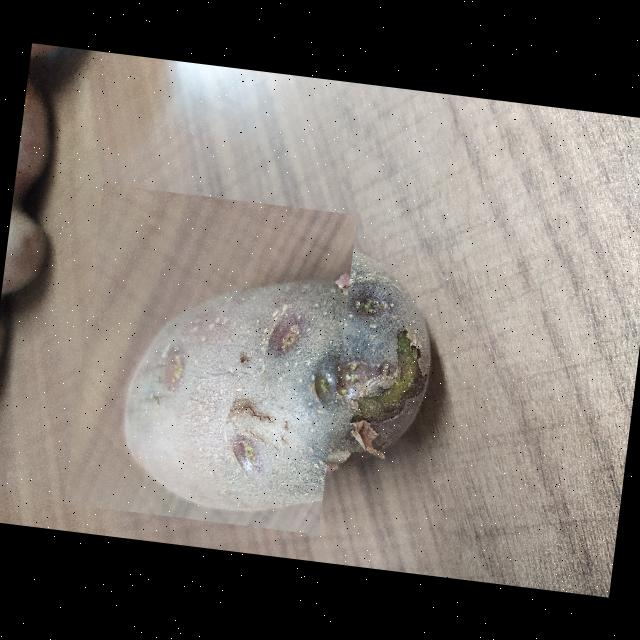Damaged potato: (64, 183, 357, 534)
